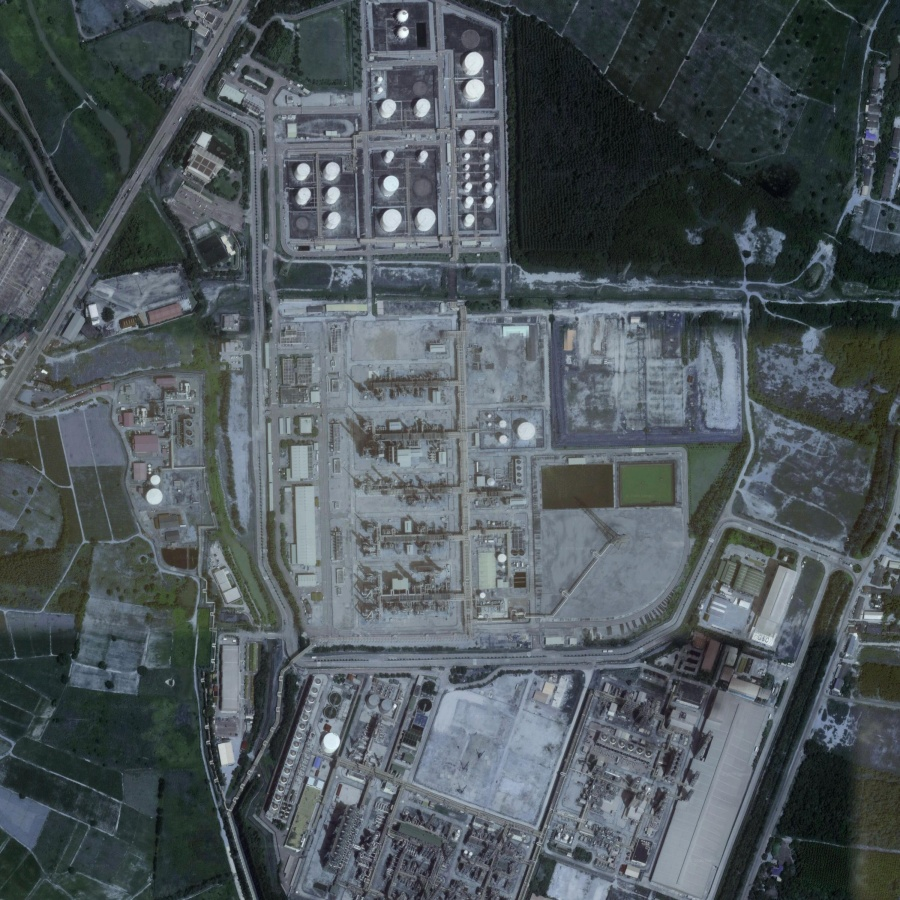PowerPlant: (343, 350, 537, 538)
